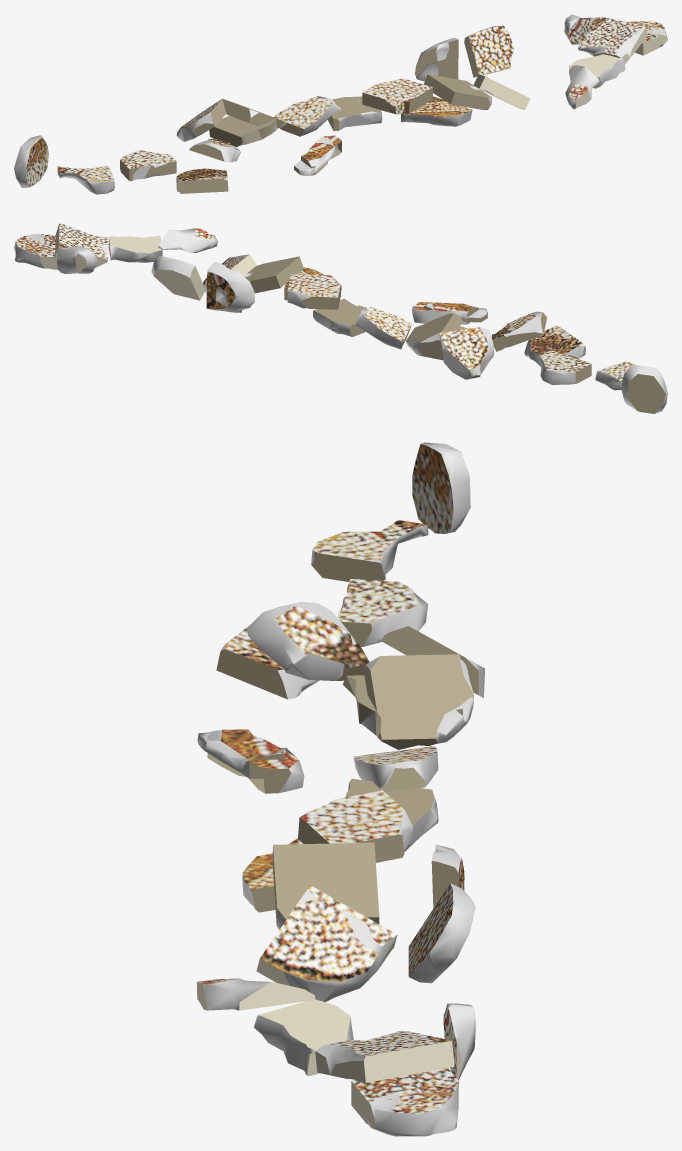
Rendered from mural_C.fbx.
The picture shows the model from 3 angles, top to bottom: view 1: azimuth 30°, elevation 25°; view 2: azimuth 150°, elevation 25°; view 3: azimuth 270°, elevation 25°; orthographic projection. The views are drawn at different scales.
Visible parts, largest first — view 1: mural_C; view 2: mural_C; view 3: mural_C.
Boxes of the visible parts, <box> form: mural_C: <box>14,14,667,194</box>; mural_C: <box>14,223,667,413</box>; mural_C: <box>196,442,484,1136</box>.
Bounding box in the file's own units: 294 × 25.02 × 56.84.
